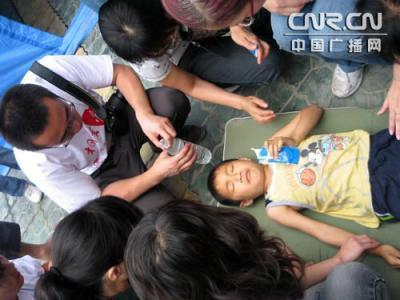Fall-Detected: (208, 92, 400, 295)
